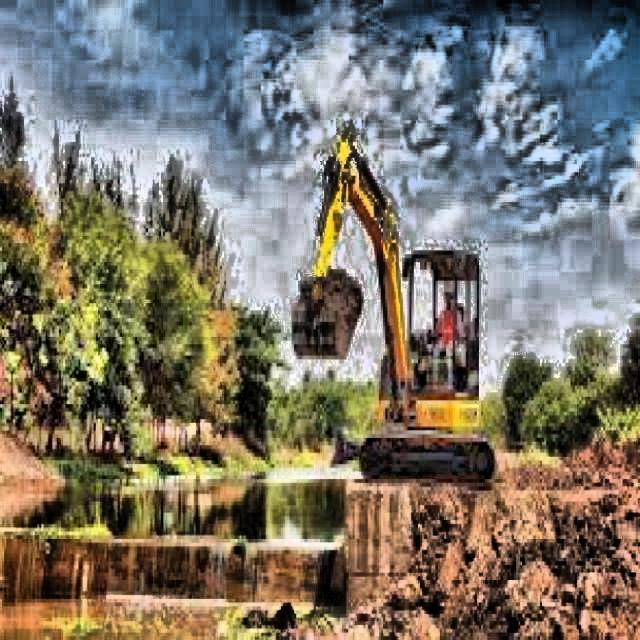bull_dozer/loader/grader: (289, 125, 496, 484)
person: (428, 280, 466, 348)
